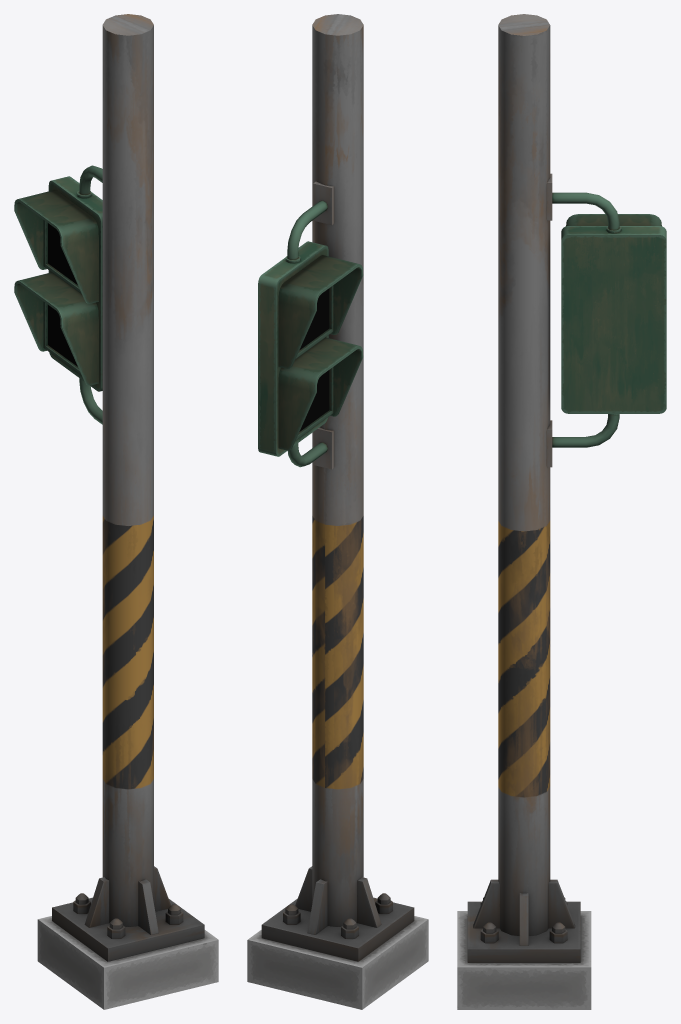
Rendered from Pedestrian_Signal.fbx.
3 views of the same model, side by side, from view 1: azimuth 30°, elevation 25°; view 2: azimuth 150°, elevation 25°; view 3: azimuth 270°, elevation 25° (orthographic).
Parts seen in each view (by area): view 1: Pedestrian_Signal; view 2: Pedestrian_Signal; view 3: Pedestrian_Signal.
Part boxes in pixels (bbox=[...]): Pedestrian_Signal: bbox=[14, 14, 218, 1009]; Pedestrian_Signal: bbox=[247, 14, 428, 1009]; Pedestrian_Signal: bbox=[457, 14, 666, 1009].
Bounding box in the file's own units: 37.58 × 296 × 58.87.
